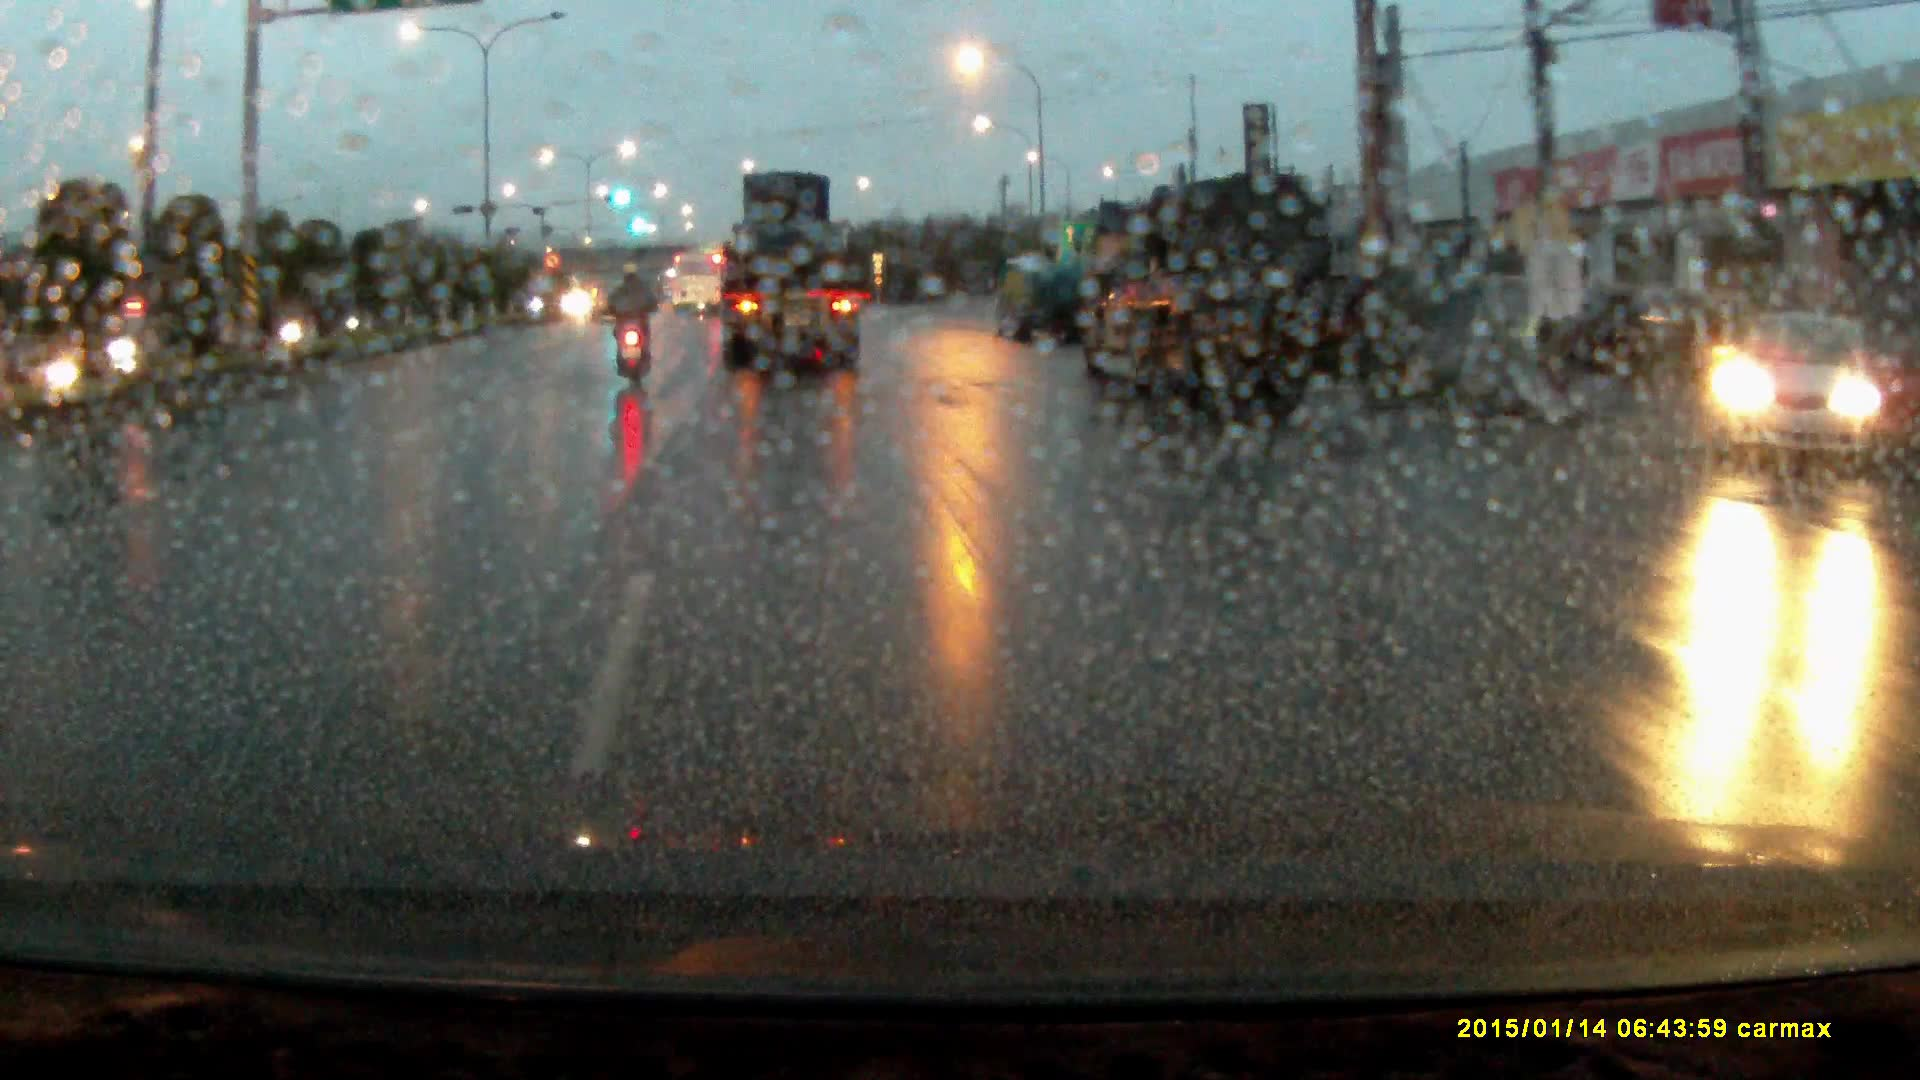rider: (610, 267, 665, 395)
vehicle: (1075, 181, 1341, 428), (1708, 310, 1894, 472), (723, 173, 860, 370), (993, 261, 1089, 346), (671, 256, 724, 320), (591, 283, 640, 328)
